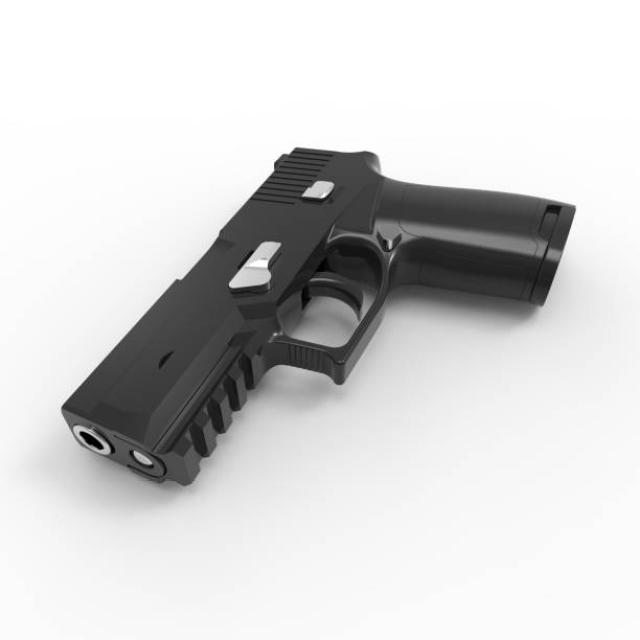pistol: (61, 142, 584, 494)
